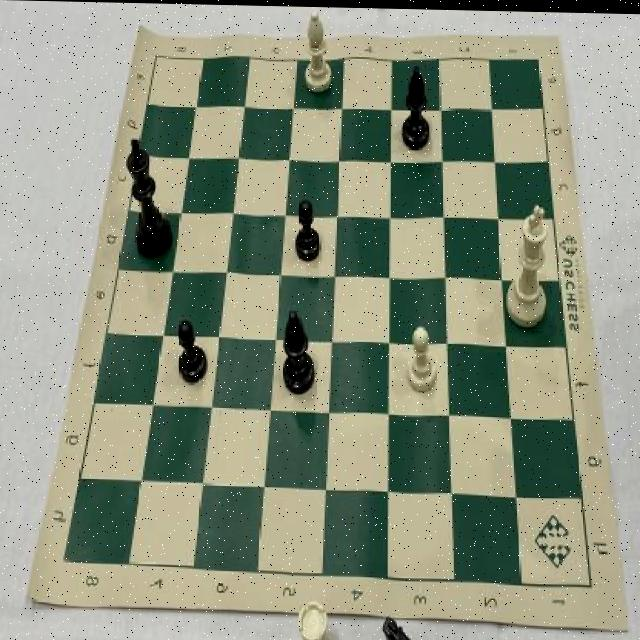bishop: (396, 56, 432, 157)
black-bishop: (120, 124, 175, 263)
black-knight: (176, 311, 210, 389), (292, 190, 322, 262)
black-rook: (300, 5, 336, 99)
white-bishop: (504, 193, 557, 334)
white-knight: (401, 314, 442, 395)
